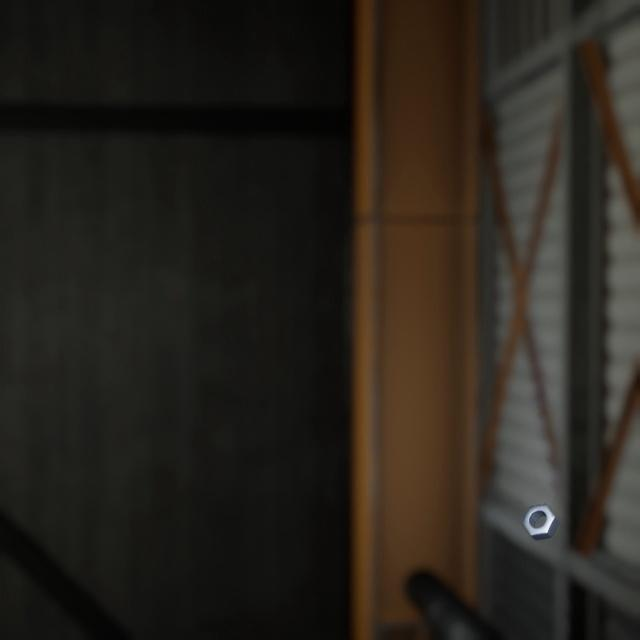nut: (517, 477, 564, 522)
